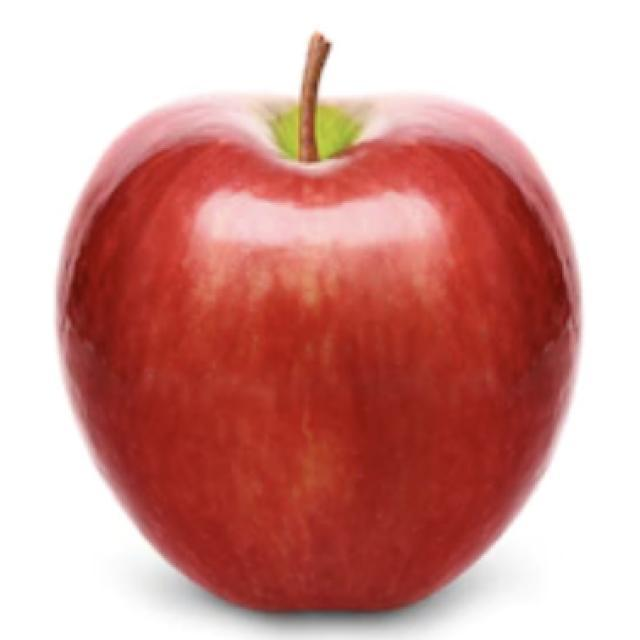Apple: (54, 30, 584, 614)
